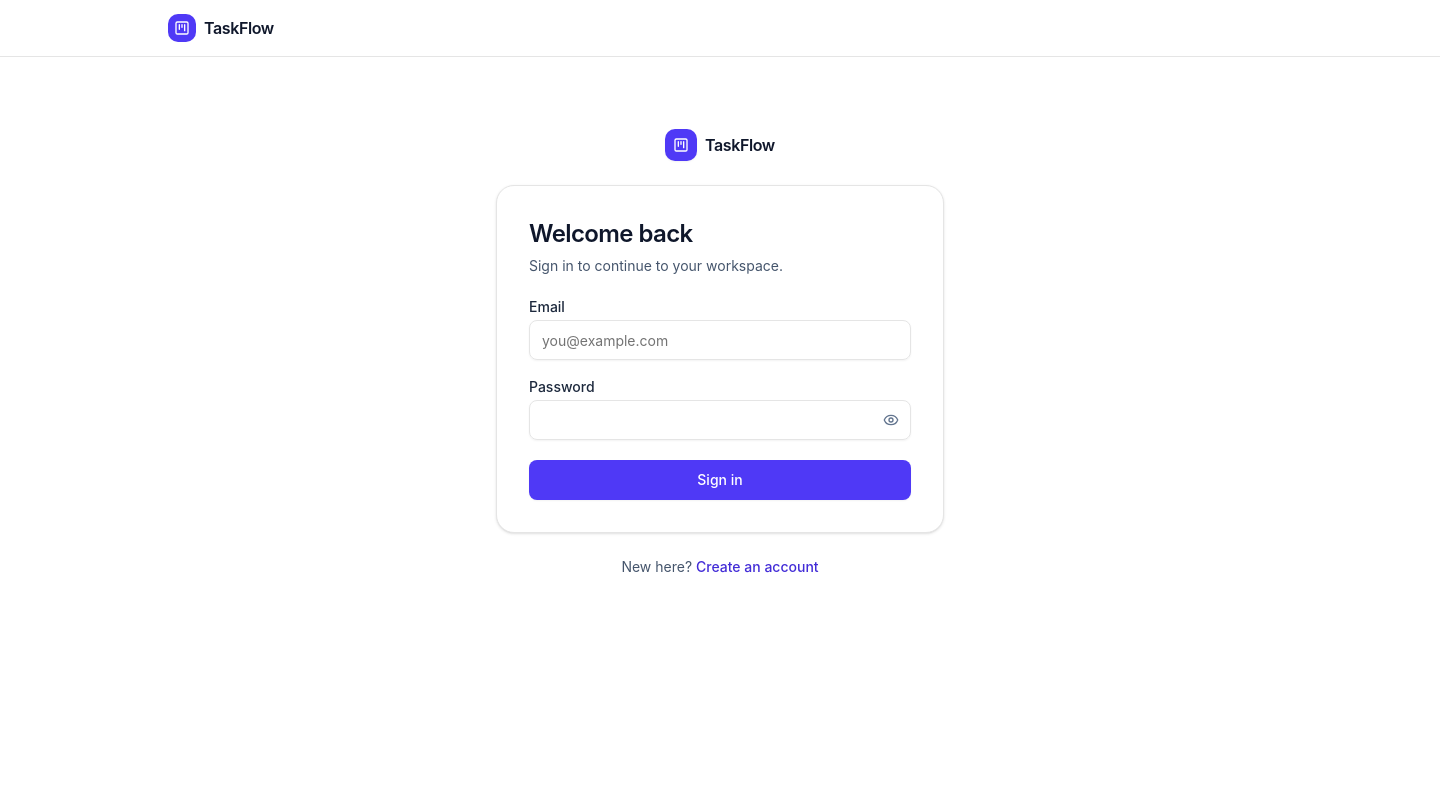
Test: login › toggles password visibility without losing the typed value
Type "secret-pass" into the password field labelled "Password". click: (720, 420)
box: [529, 400, 911, 440]
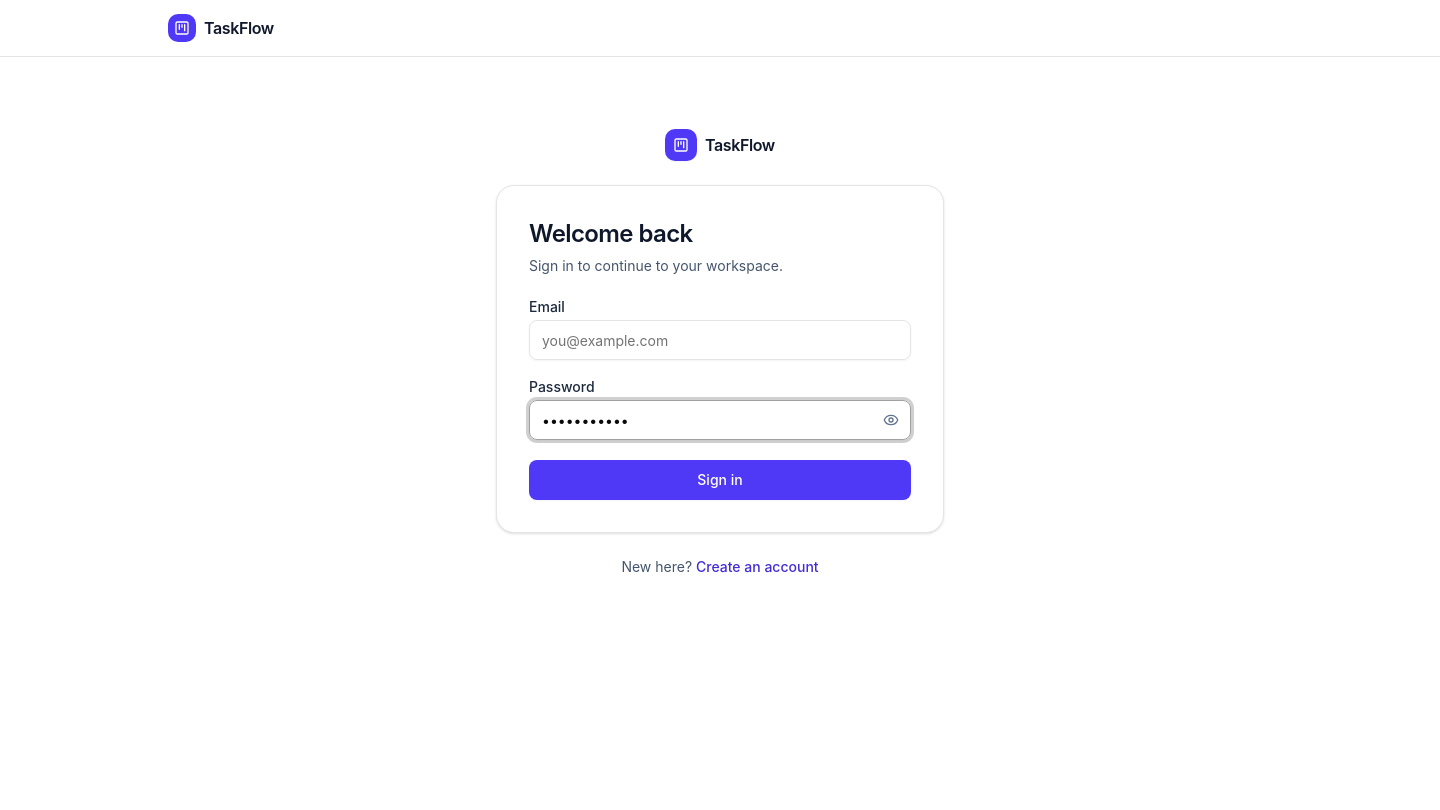
Click the button named "Show password". click: (891, 420)
box: [871, 400, 911, 440]
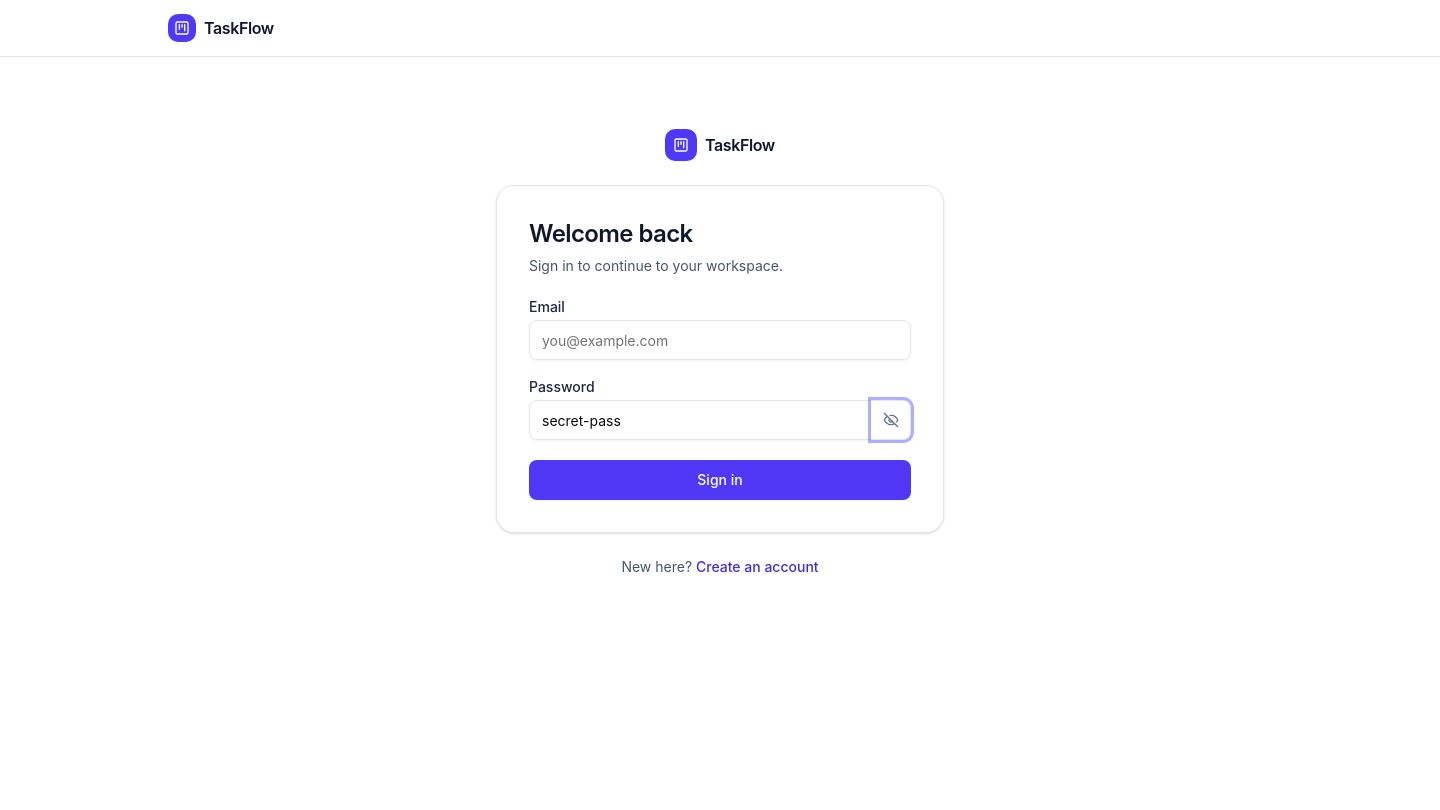
Expected: the field labelled "Password" shows its text, [529, 400, 911, 440]
Click the button named "Hide password". click: (891, 420)
box: [871, 400, 911, 440]
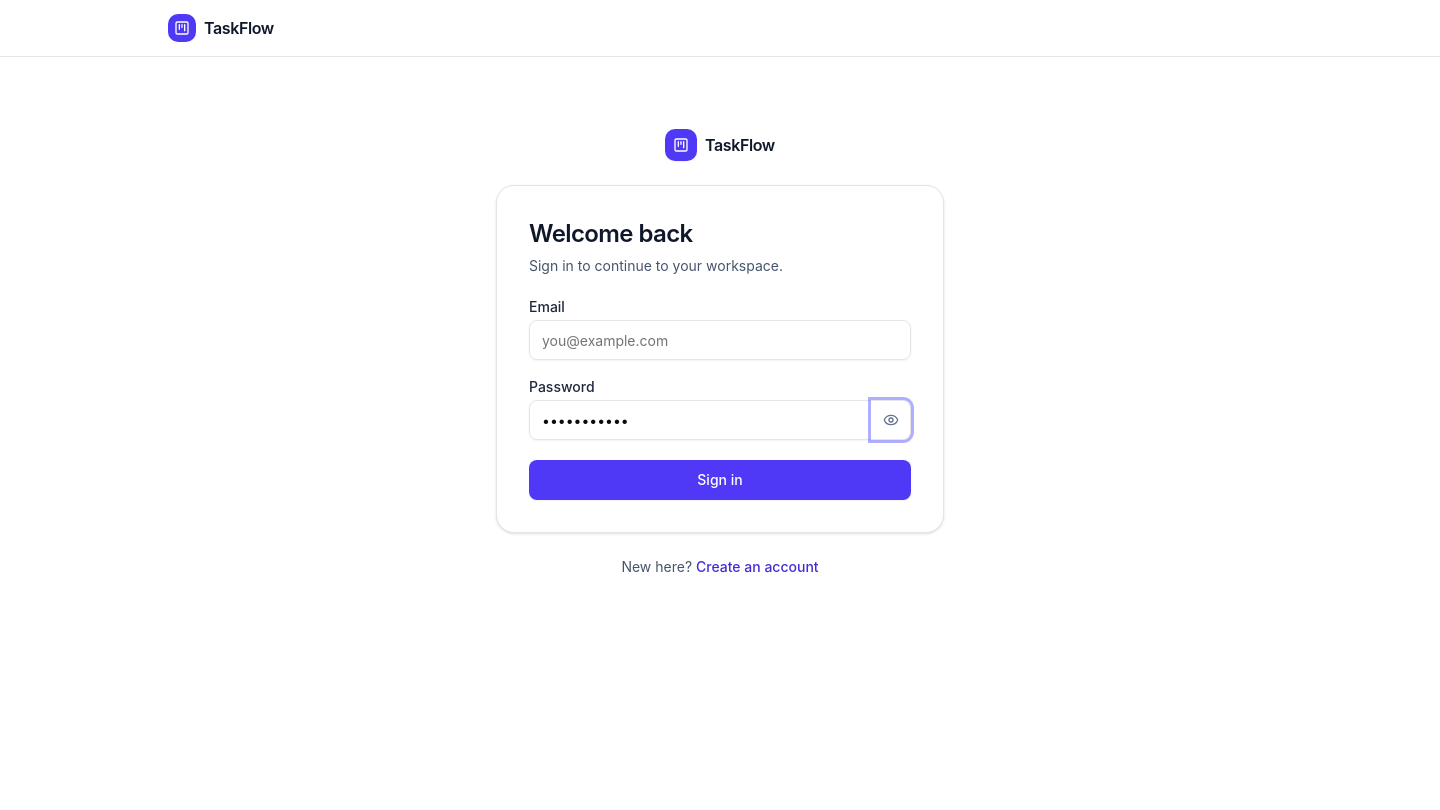
Expected: the password field labelled "Password" hides its text, [529, 400, 911, 440]
